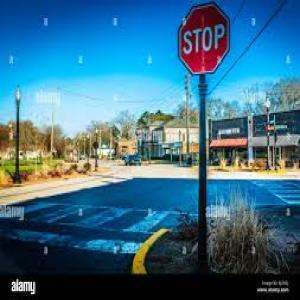STOP: (177, 3, 234, 76)
